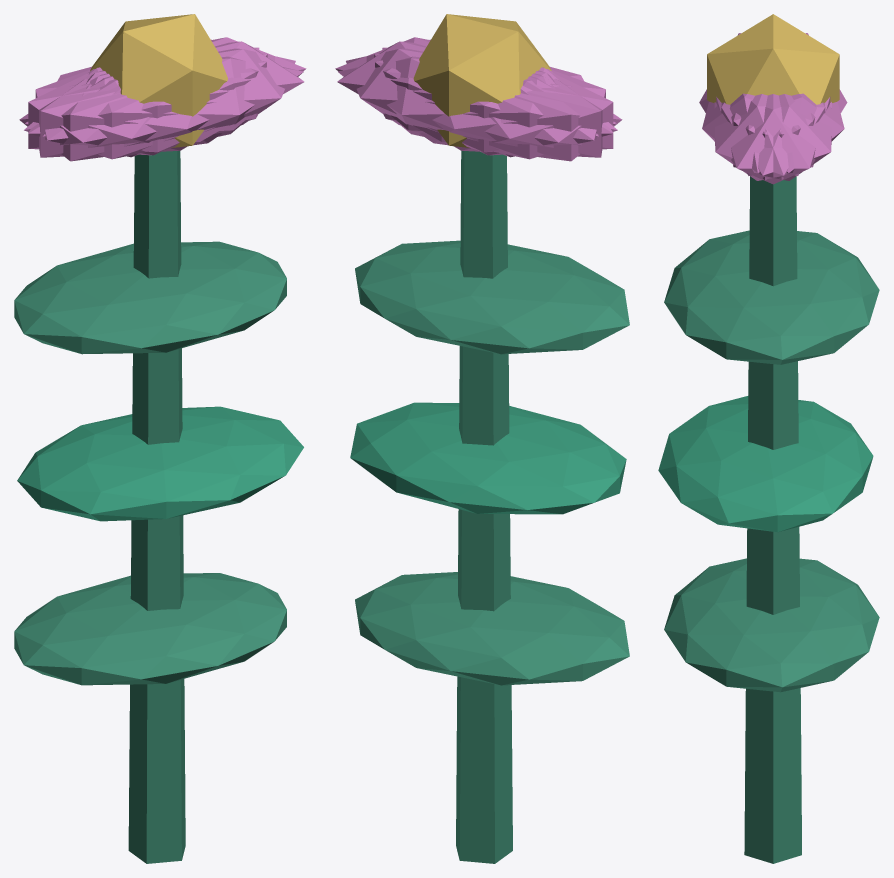
The model's file is osmanthus-fragrans.glb.
3 views of the same model, side by side, from view 1: azimuth 30°, elevation 25°; view 2: azimuth 150°, elevation 25°; view 3: azimuth 270°, elevation 25° (orthographic).
Parts seen in each view (by area): view 1: stem, leaf1, leaf2, leaf0, center, petal1, petal6, petal2, petal5, petal7, petal0, petal4 (+2 smaller); view 2: stem, leaf2, leaf0, leaf1, center, petal8, petal3, petal7, petal4, petal2, petal0, petal5 (+2 smaller); view 3: stem, leaf2, leaf1, leaf0, center, petal0, petal4, petal5, petal1, petal8.
Part boxes in pixels (bbox=[...]): stem: bbox=[128, 151, 185, 863]; leaf1: bbox=[17, 406, 303, 521]; leaf2: bbox=[14, 241, 286, 354]; leaf0: bbox=[14, 573, 286, 685]; center: bbox=[90, 14, 227, 147]; petal1: bbox=[24, 56, 303, 159]; petal6: bbox=[19, 69, 221, 161]; petal2: bbox=[39, 47, 259, 157]; petal5: bbox=[42, 48, 295, 152]; petal7: bbox=[28, 53, 267, 155]; petal0: bbox=[89, 41, 304, 142]; petal4: bbox=[25, 37, 306, 133]; stem: bbox=[456, 150, 512, 863]; leaf2: bbox=[355, 240, 629, 354]; leaf0: bbox=[355, 572, 629, 685]; leaf1: bbox=[350, 402, 626, 514]; center: bbox=[413, 14, 551, 147]; petal8: bbox=[338, 56, 617, 159]; petal3: bbox=[419, 69, 622, 161]; petal7: bbox=[382, 47, 602, 157]; petal4: bbox=[346, 48, 598, 152]; petal2: bbox=[374, 53, 613, 155]; petal0: bbox=[337, 41, 551, 142]; petal5: bbox=[335, 37, 616, 133]; stem: bbox=[744, 176, 801, 863]; leaf2: bbox=[664, 230, 879, 364]; leaf1: bbox=[658, 396, 873, 532]; leaf0: bbox=[664, 558, 879, 692]; center: bbox=[707, 14, 839, 104]; petal0: bbox=[716, 94, 830, 184]; petal4: bbox=[721, 94, 831, 180]; petal5: bbox=[714, 94, 825, 180]; petal1: bbox=[702, 93, 815, 173]; petal8: bbox=[731, 93, 844, 173].
Bounding box in the file's own units: 0.1494 × 0.4175 × 0.1022.
